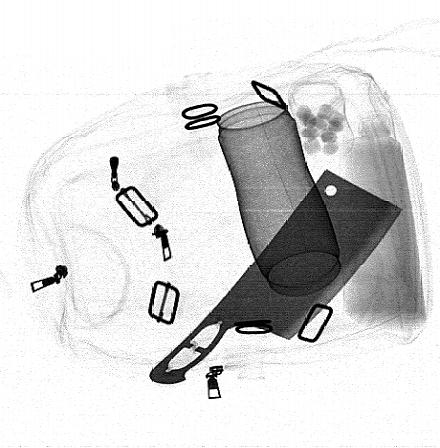Knife: (149, 167, 404, 385)
